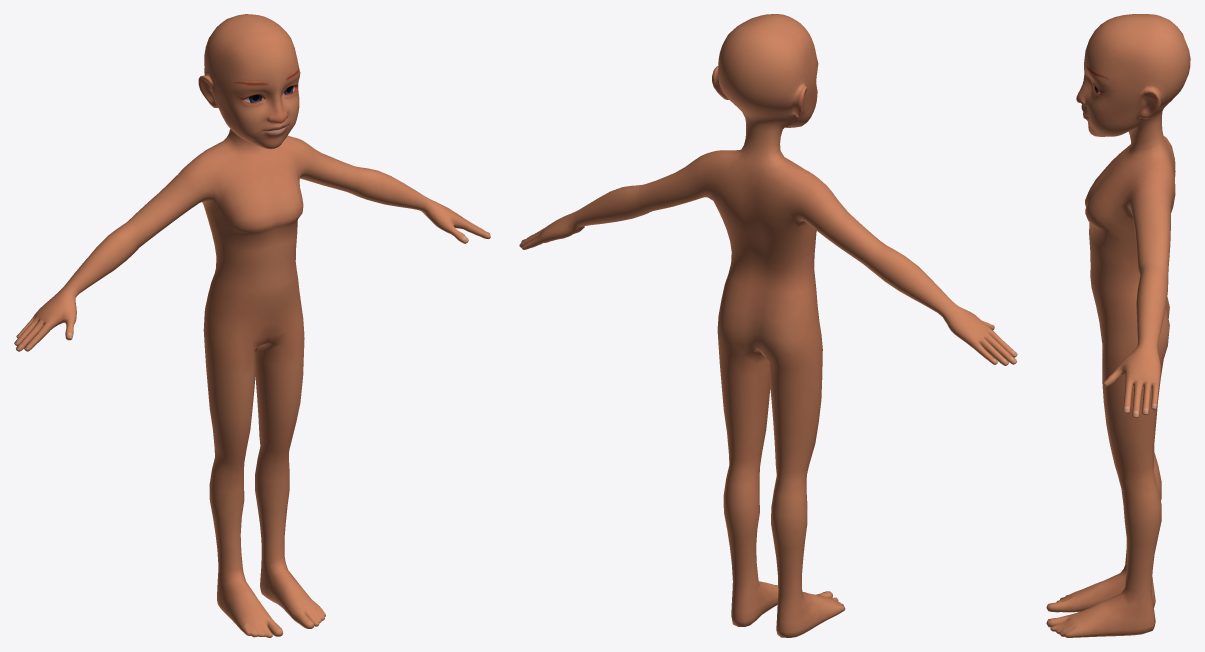
The model's file is frame_0041.glb.
3 renders of one model, left to right at view 1: azimuth 30°, elevation 25°; view 2: azimuth 150°, elevation 25°; view 3: azimuth 270°, elevation 25°, orthographic. The views are drawn at different scales.
Visible parts, largest first — view 1: frame_0041_head_geo; view 2: frame_0041_head_geo; view 3: frame_0041_head_geo.
Part boxes in pixels (box(x1,y1,x2,y2)): frame_0041_head_geo: box(14, 14, 490, 637); frame_0041_head_geo: box(519, 14, 1017, 637); frame_0041_head_geo: box(1046, 14, 1190, 637).
Bounding box in the file's own units: 1.28 × 1.5 × 0.3253.
Materials: 3 (3 with a texture image).
